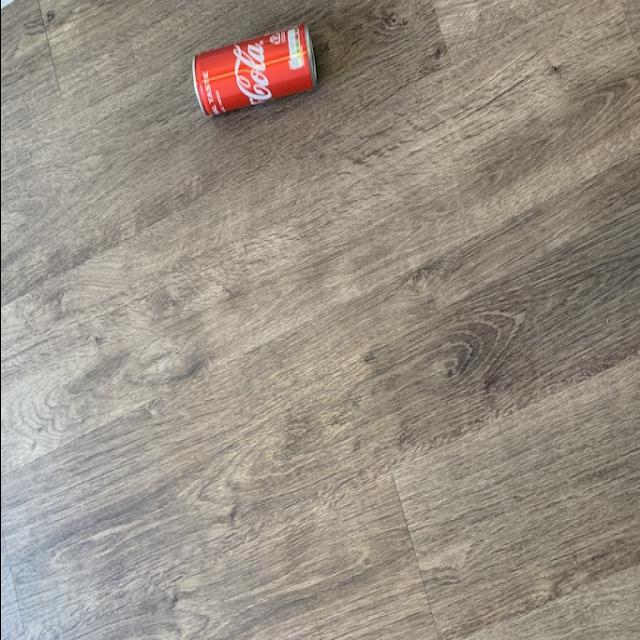Aluminum Can: (179, 13, 341, 148)
